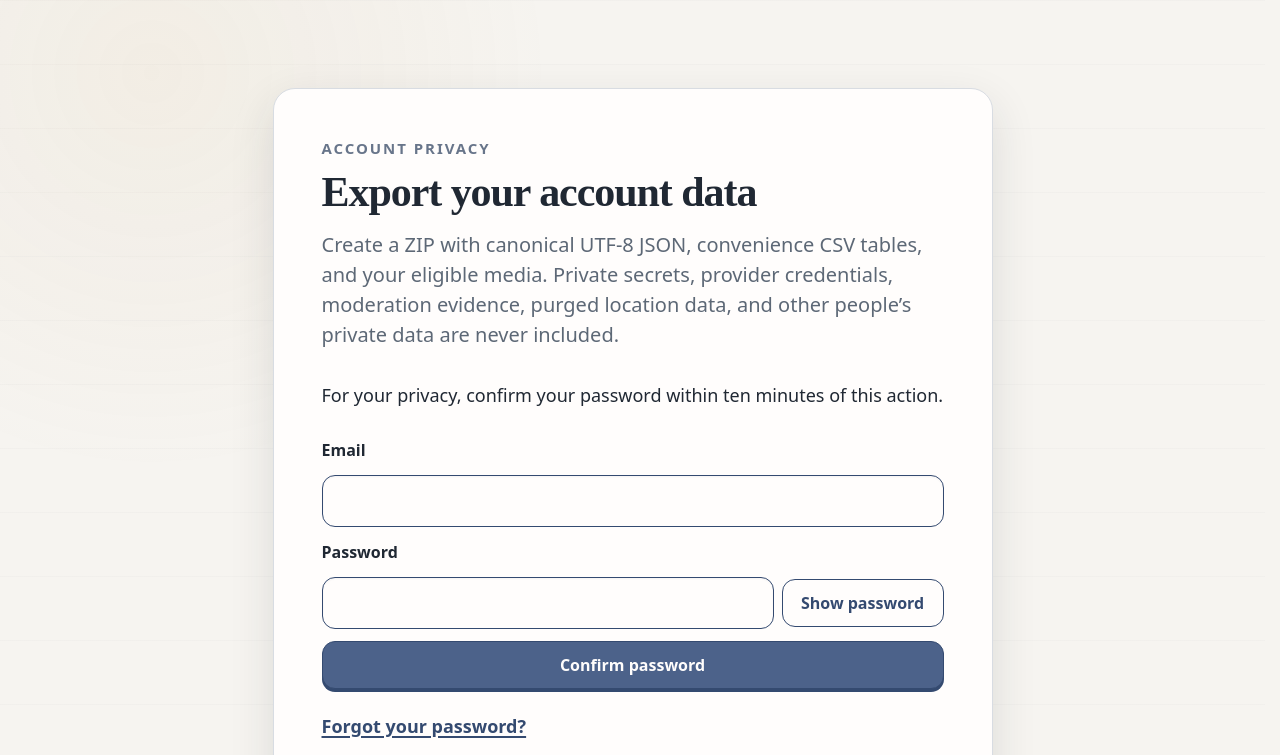
Test: account lifecycle screens › rejects privacy password reauthentication from a different account
Type "other@example.com" into the field labelled "Email" at (632, 501), box [322,475,944,527]
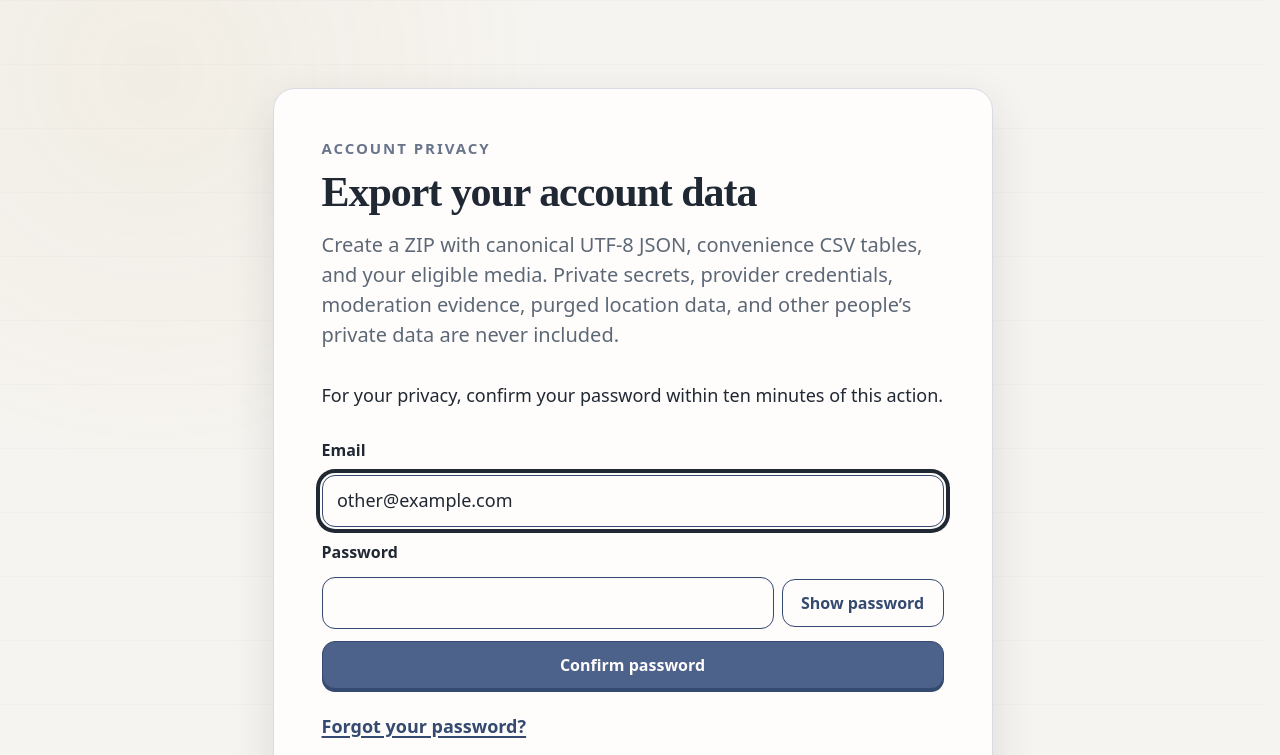
Type "private-password" into the password field labelled "Password" at (548, 603), box [322,577,774,629]
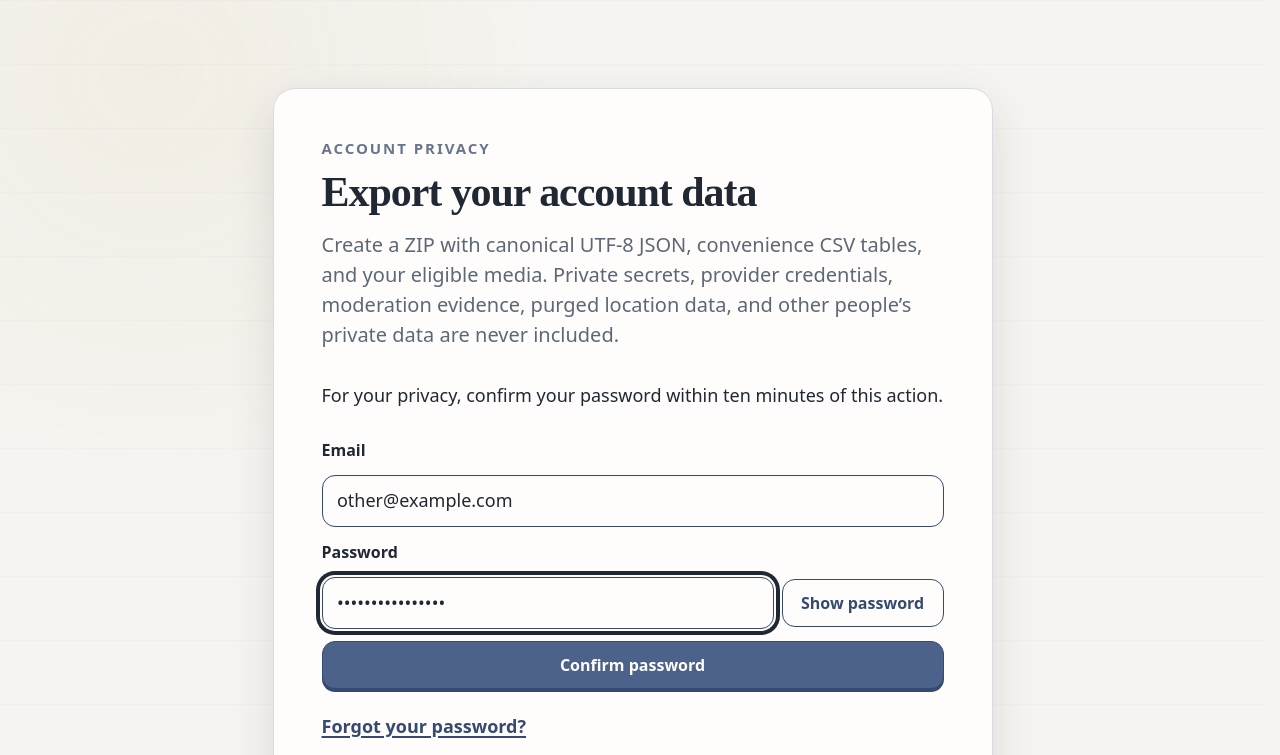
Click the button "Confirm password" at (632, 665), box [322,641,944,689]
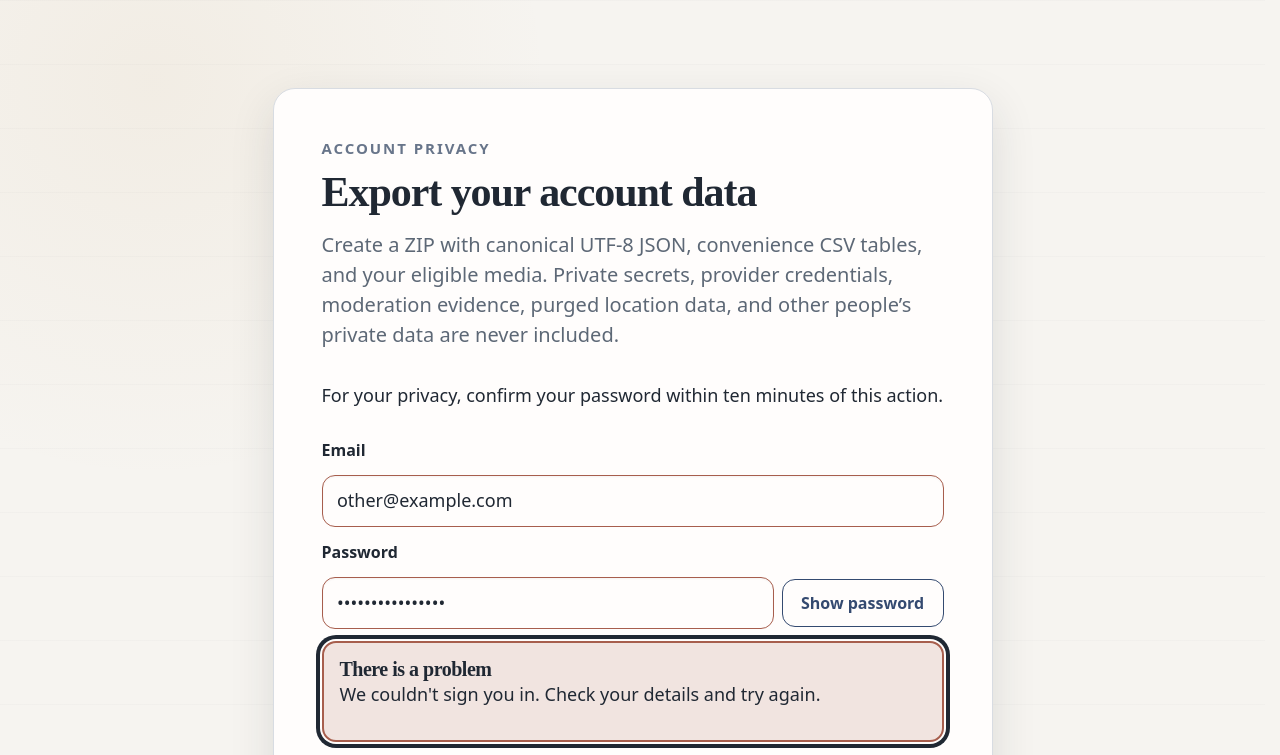
Result: the message shows "couldn't sign you in" at [340,682,820,706]
